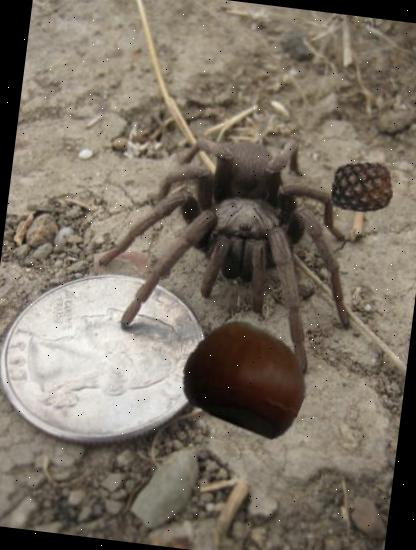Nut: (178, 308, 316, 446)
Pineapple: (328, 153, 396, 222)
